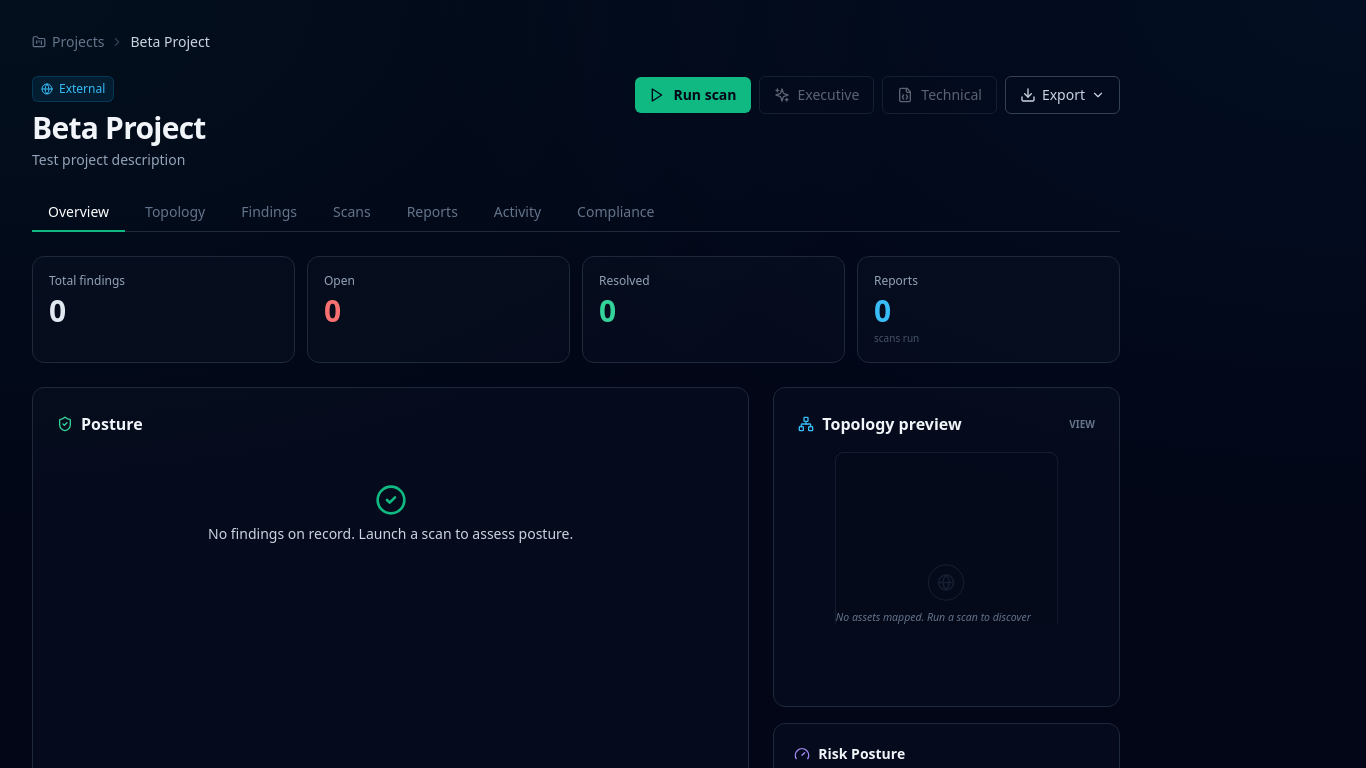
ProjectDetail — Export dropdown › Export button opens dropdown
The image size is (1366, 768).
Click the button "Export" at x=1062, y=95, box [1005,76,1120,114]
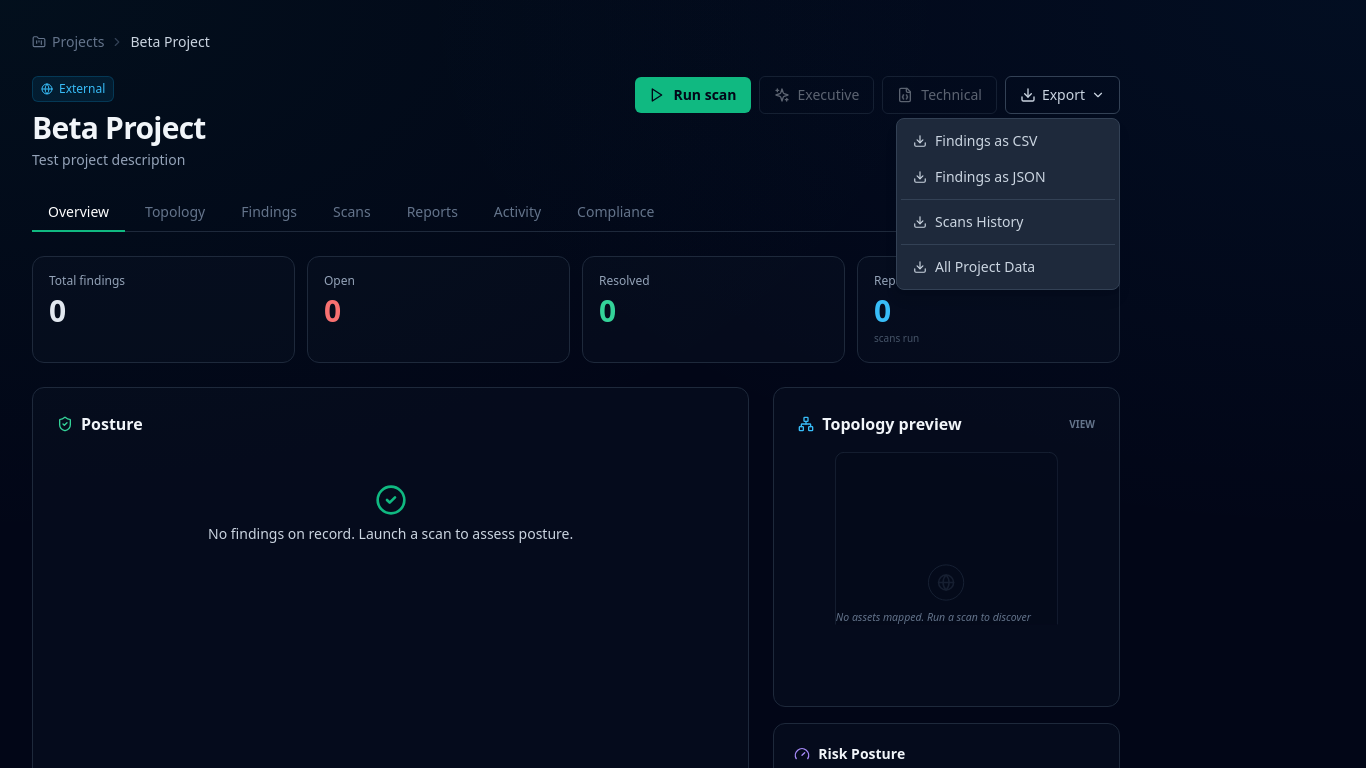
Now the button "Findings as CSV" is shown, box [901,123,1115,159]
Now the button "Findings as JSON" is shown, box [901,159,1115,195]
Now the button "Scans History" is shown, box [901,204,1115,240]
